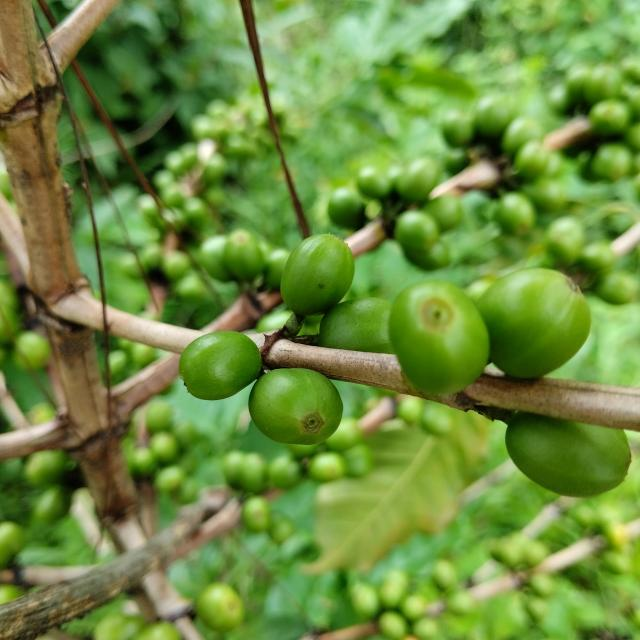green: (478, 268, 592, 378), (390, 280, 490, 395), (506, 412, 632, 498), (249, 369, 343, 445), (281, 234, 355, 316), (179, 331, 261, 401), (319, 297, 394, 354)
